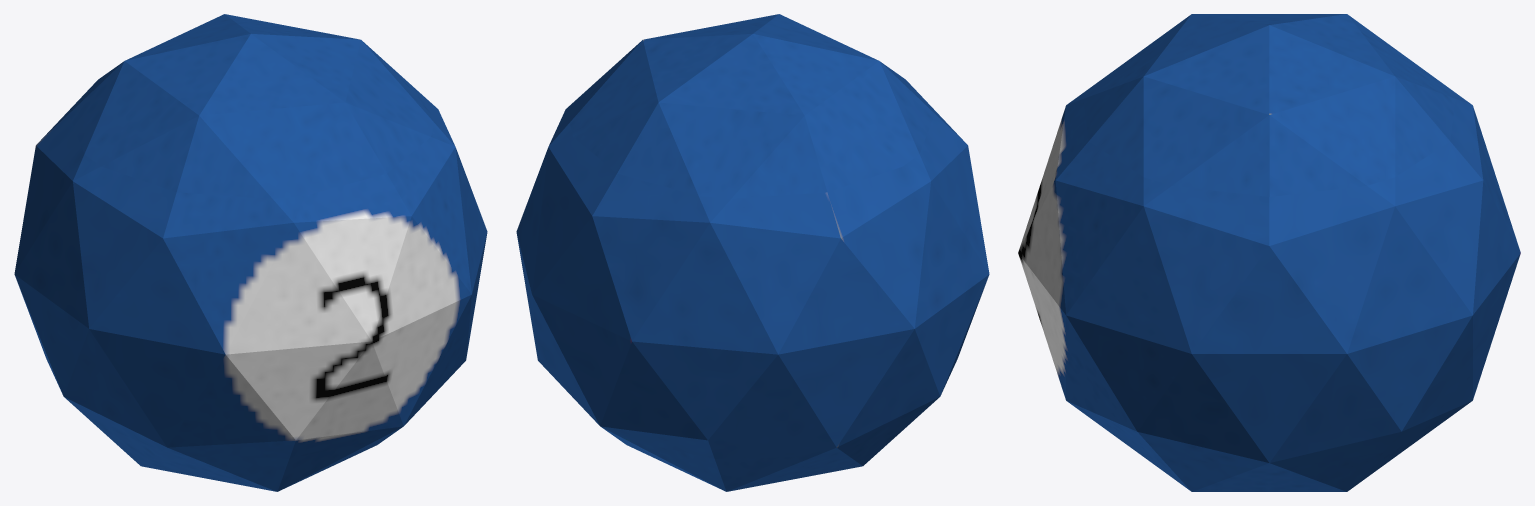
File: pool_ball_2.obj
The picture shows the model from 3 angles, left to right: view 1: azimuth 30°, elevation 25°; view 2: azimuth 150°, elevation 25°; view 3: azimuth 270°, elevation 25°; orthographic projection. The views are drawn at different scales.
Parts seen in each view (by area): view 1: PoolBall_02; view 2: PoolBall_02; view 3: PoolBall_02.
Boxes of the visible parts, x1=… form: PoolBall_02: x1=14, y1=14, x2=487, y2=491; PoolBall_02: x1=516, y1=14, x2=989, y2=491; PoolBall_02: x1=1018, y1=14, x2=1520, y2=491.
Size of the model in its own units: 0.0709 by 0.0745 by 0.0745.
Materials: 1 (1 with a texture image).
